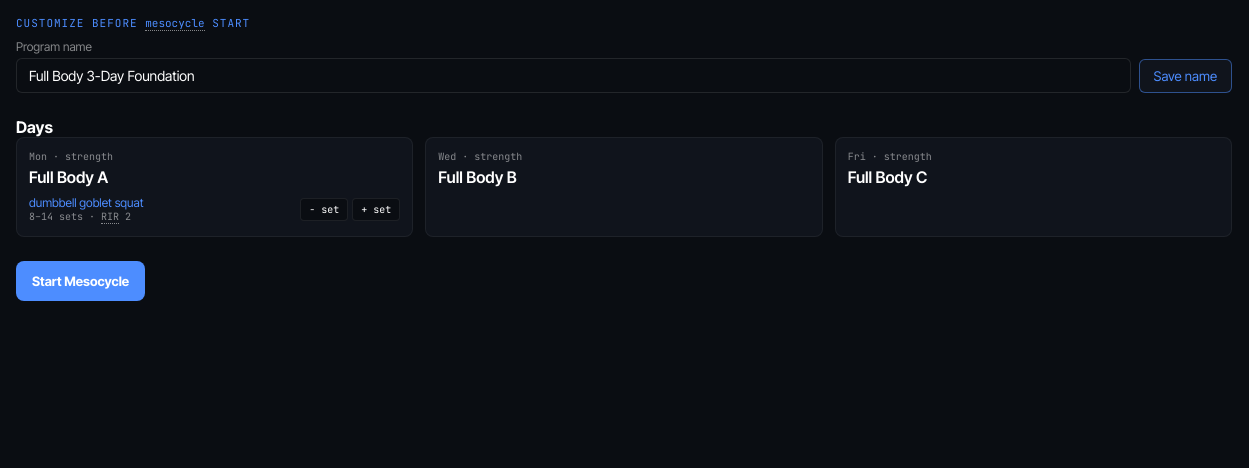
<ForkWizard> › handles 409 active_run_exists from Start by re-pulling today and showing the banner
This screenshot has width=1249, height=468.
expect the text "Full Body A" is shown: met, box x1=29 y1=167 x2=108 y2=187
Step 1. Click the button "Start Mesocycle" → point(81, 281), box x1=16 y1=261 x2=145 y2=301
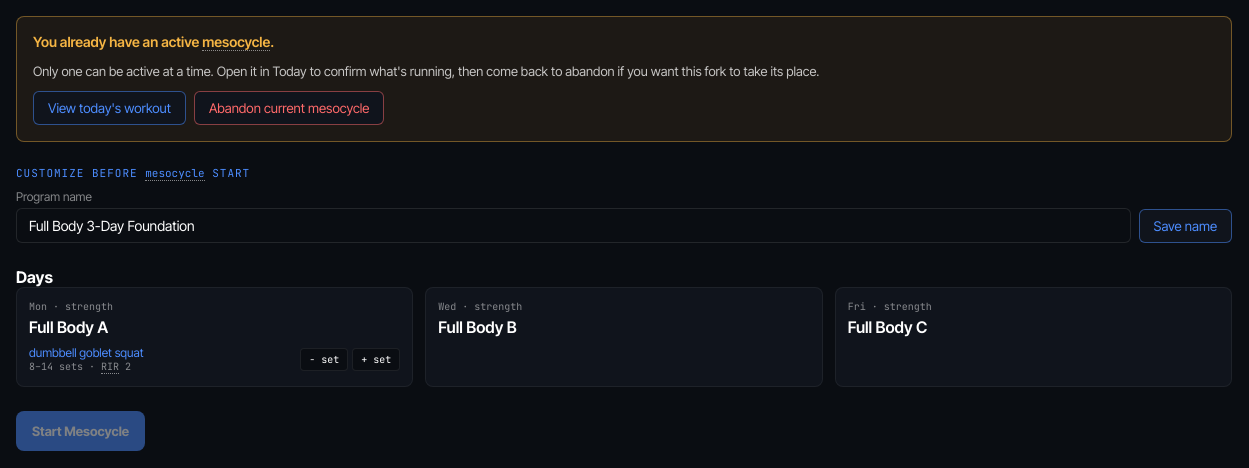
expect the message shows "already have an active": met, box x1=33 y1=33 x2=202 y2=50
